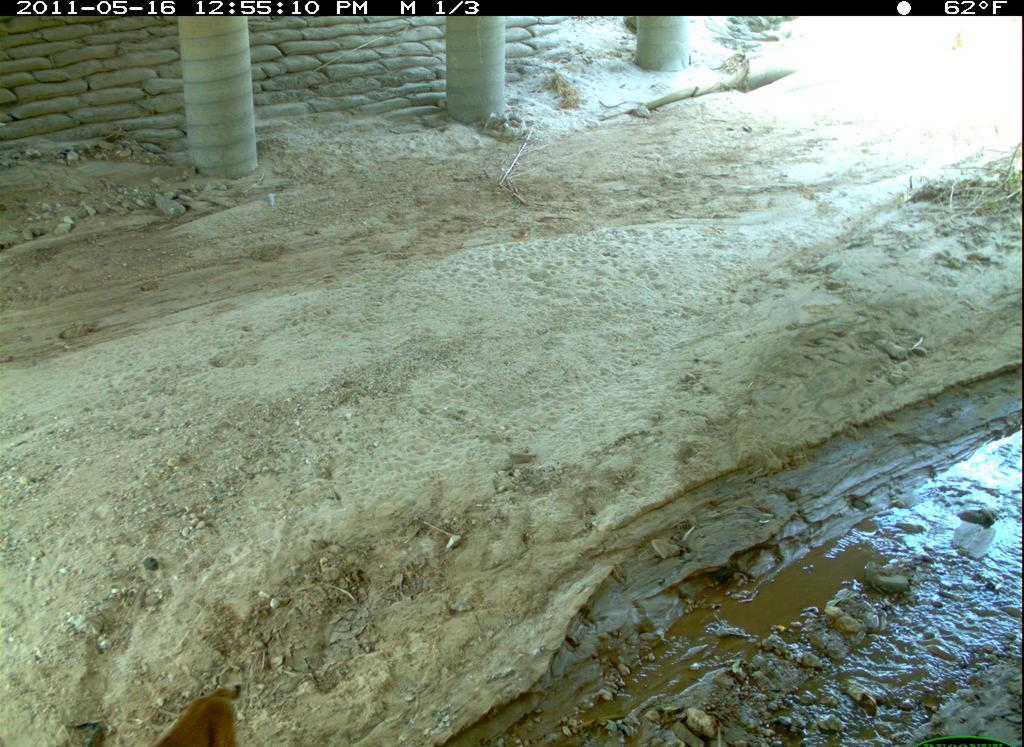bobcat: (123, 667, 257, 743)
